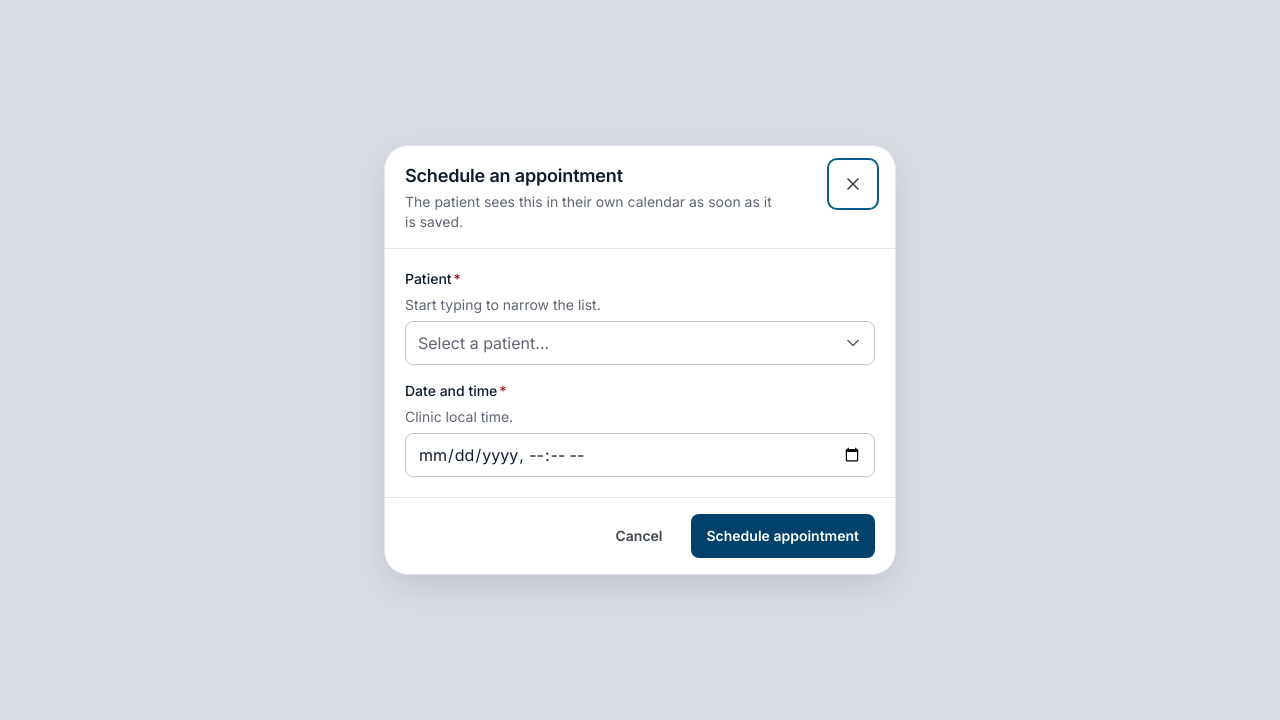
Test: schedule appointment validation › asks which patient when none is chosen
Step 1. Click the button "Schedule appointment" → x=783, y=536, box [690, 514, 875, 558]
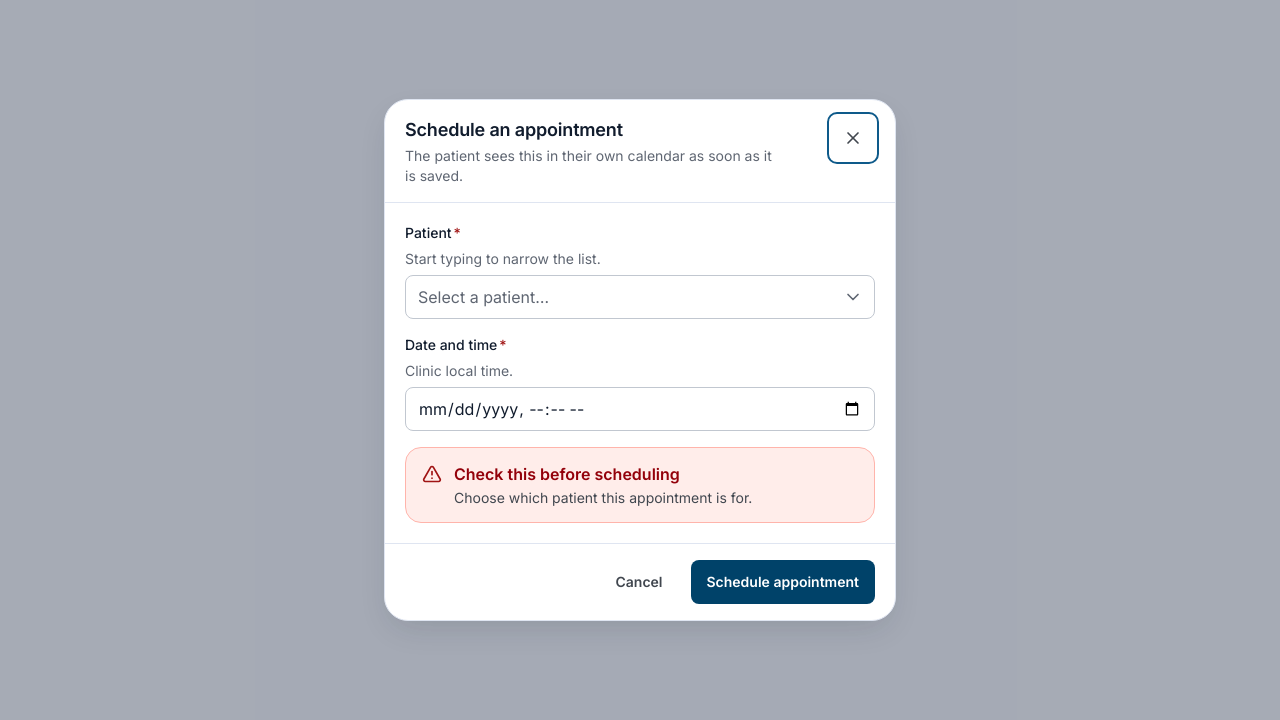
Expected: the text "Choose which patient this appointment is for." is shown, [454, 489, 752, 506]
